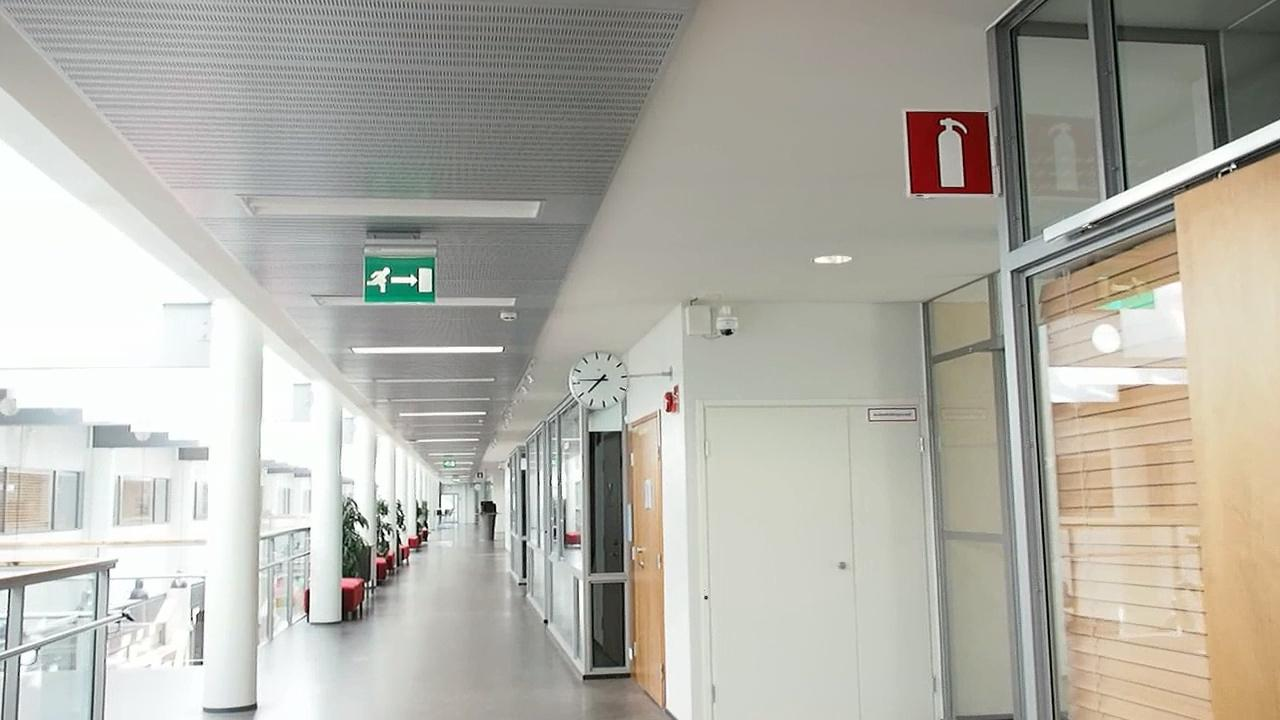clock: (567, 354, 632, 417)
exit: (357, 254, 436, 307)
fireextinguisher: (911, 106, 996, 194)
